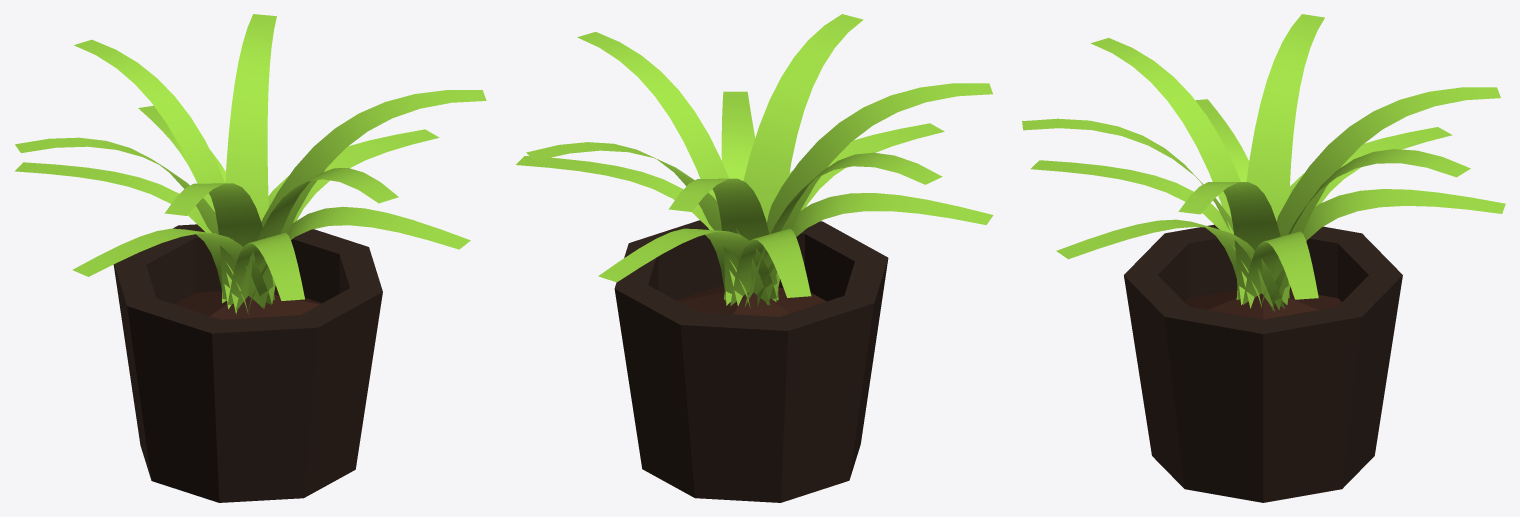
The model's file is plant_small.glb.
The picture shows the model from 3 angles, left to right: view 1: azimuth 30°, elevation 25°; view 2: azimuth 150°, elevation 25°; view 3: azimuth 270°, elevation 25°; orthographic projection.
Parts seen in each view (by area): view 1: plant_small; view 2: plant_small; view 3: plant_small.
Part boxes in pixels (bbox=[...]): plant_small: bbox=[15, 14, 486, 502]; plant_small: bbox=[516, 14, 993, 502]; plant_small: bbox=[1022, 14, 1505, 502].
Bounding box in the file's own units: 0.2435 × 0.192 × 0.2458.
